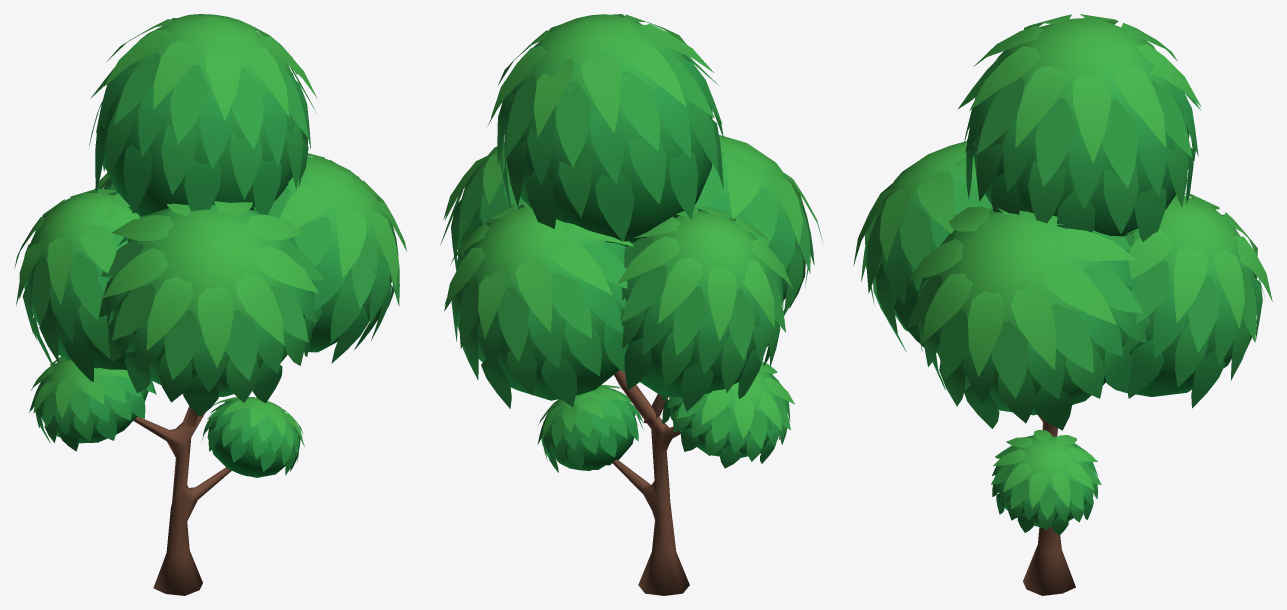
The model's file is Tree4.fbx.
The picture shows the model from 3 angles, left to right: view 1: azimuth 30°, elevation 25°; view 2: azimuth 150°, elevation 25°; view 3: azimuth 270°, elevation 25°; orthographic projection. The views are drawn at different scales.
Visible parts, largest first — view 1: Sphere.018, Sphere.001; view 2: Sphere.018, Sphere.001; view 3: Sphere.018, Sphere.001.
Part boxes in pixels (<box>): Sphere.018: <box>14,14,406,477</box>; Sphere.001: <box>133,412,231,595</box>; Sphere.018: <box>440,14,822,472</box>; Sphere.001: <box>612,370,689,595</box>; Sphere.018: <box>853,14,1272,535</box>; Sphere.001: <box>1023,419,1075,595</box>.
Bounding box in the file's own units: 440 × 667 × 437.
